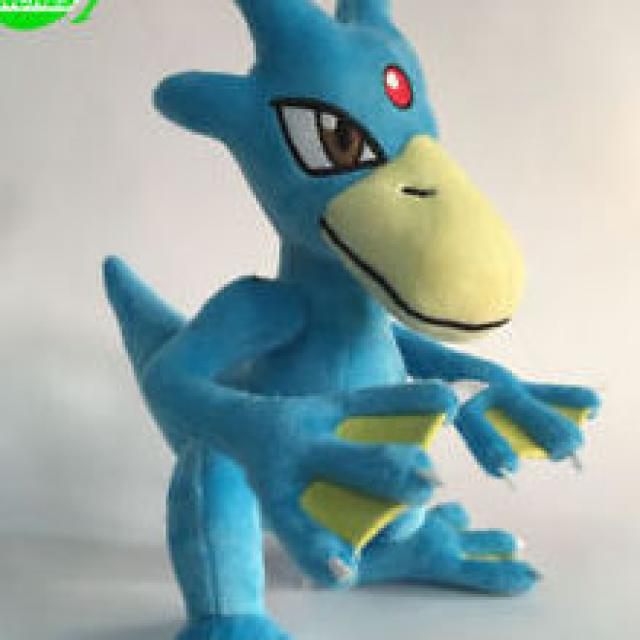Golduck: (105, 33, 567, 616)
